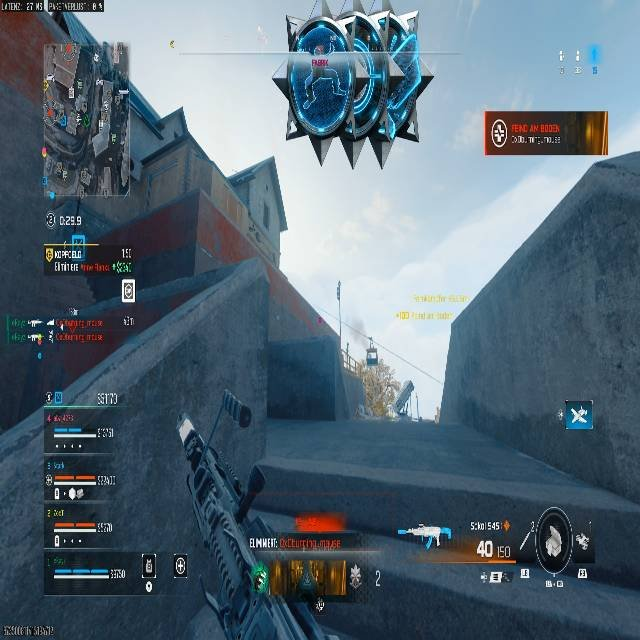head: (269, 0, 434, 169)
player: (391, 379, 417, 419)
